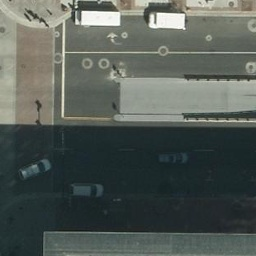car: (67, 179, 103, 200), (155, 146, 189, 168), (19, 158, 50, 182)
